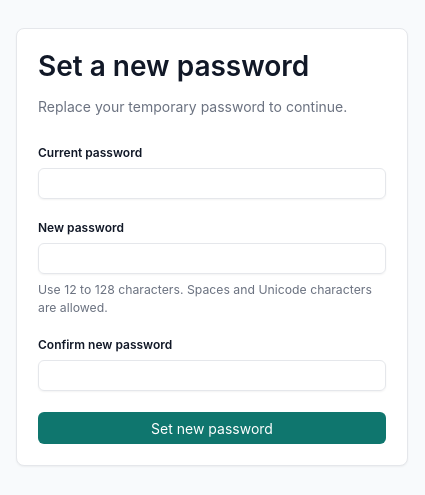
it: required password change page › announces and associates a password confirmation mismatch
Type "temporary phrase 2026!" into the password field labelled "Current password" at (212, 184), box x1=38 y1=168 x2=386 y2=199
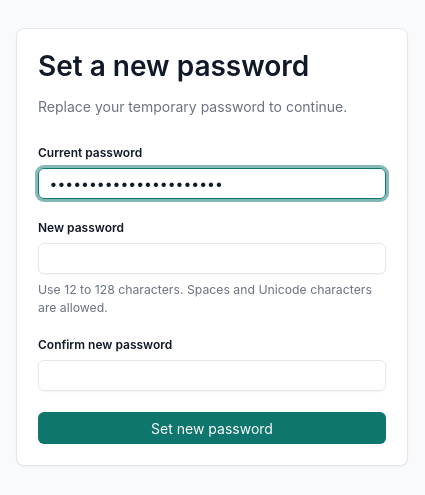
Type "replacement phrase 2026!" into the password field labelled "New password" at (212, 259), box x1=38 y1=243 x2=386 y2=274
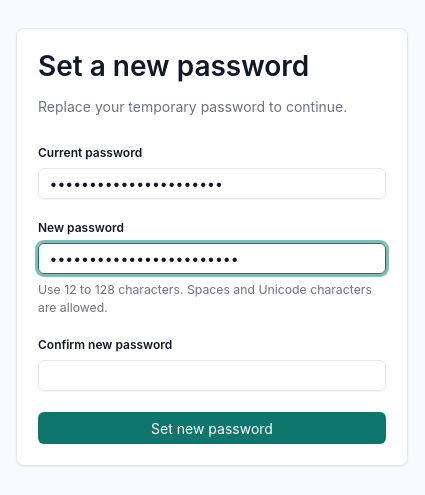
Type "different phrase 2026!" into the password field labelled "Confirm new password" at (212, 376), box x1=38 y1=360 x2=386 y2=392
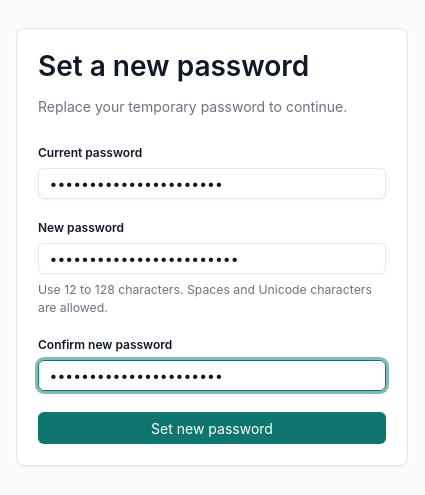
Click the button "Set new password" at (212, 428), box x1=38 y1=412 x2=386 y2=444
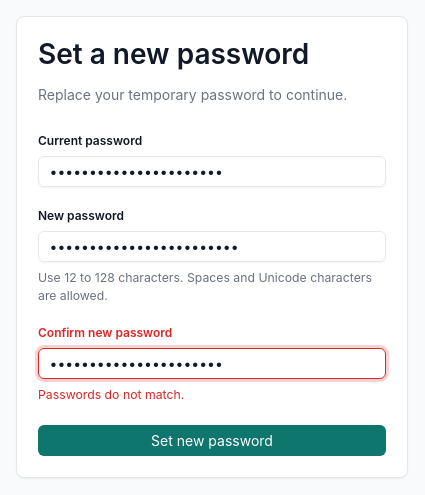
Expected: the message reads "Passwords do not match.", x1=38 y1=387 x2=184 y2=402
